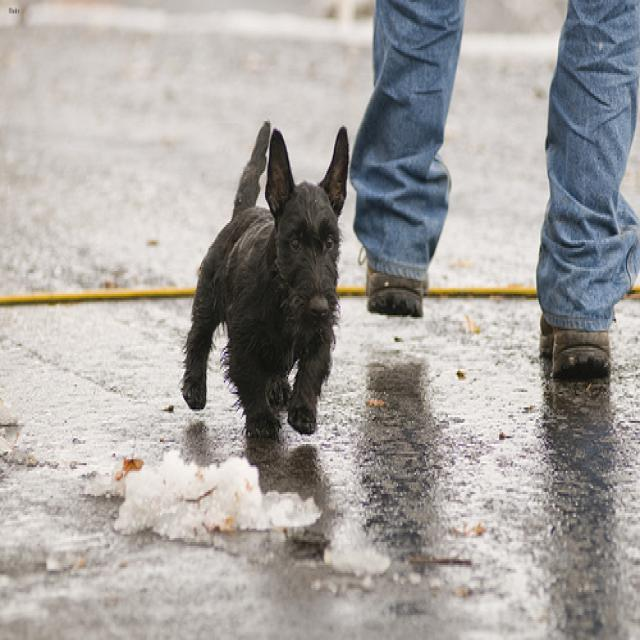dog-scottish_terrier: (178, 117, 356, 450)
